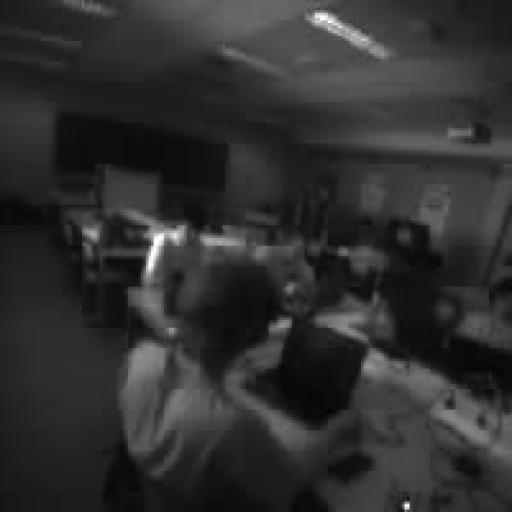human: (121, 256, 358, 511), (141, 208, 204, 296), (251, 236, 314, 302), (459, 277, 511, 353)
